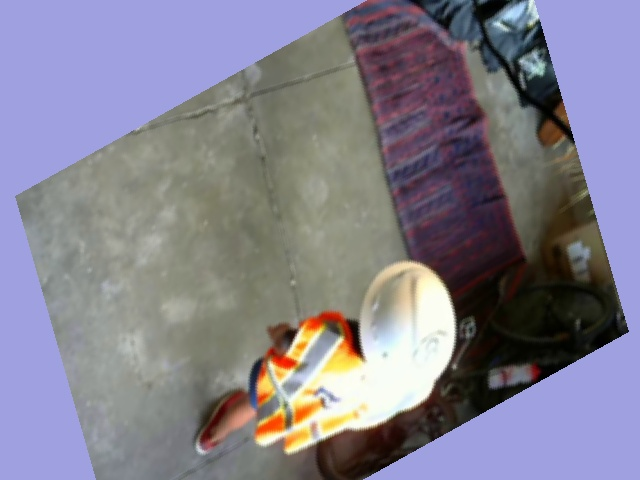eight: (407, 326, 454, 377)
